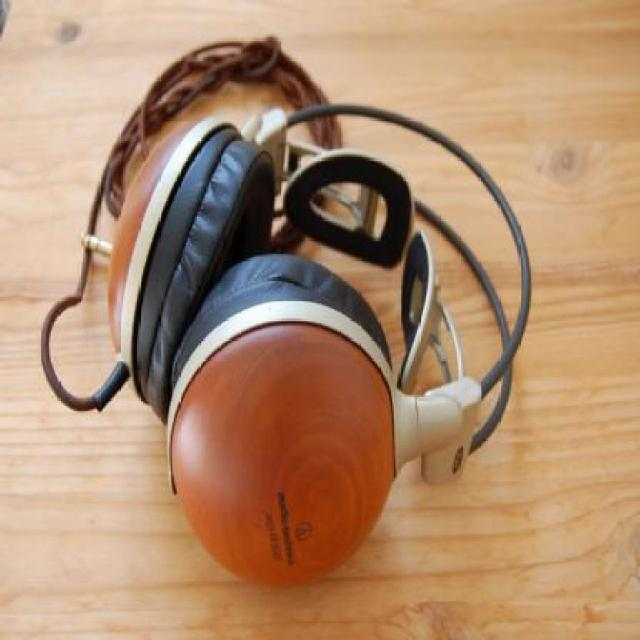earphone: (94, 70, 551, 591)
